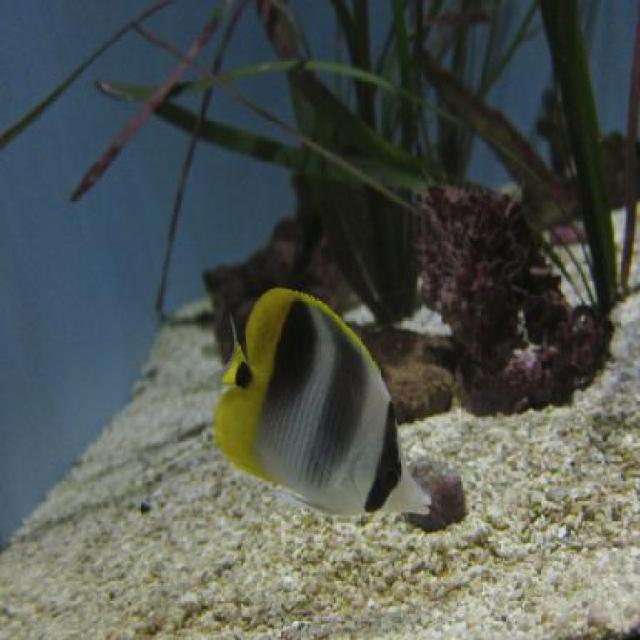ButterflyFish: (220, 287, 428, 518)
